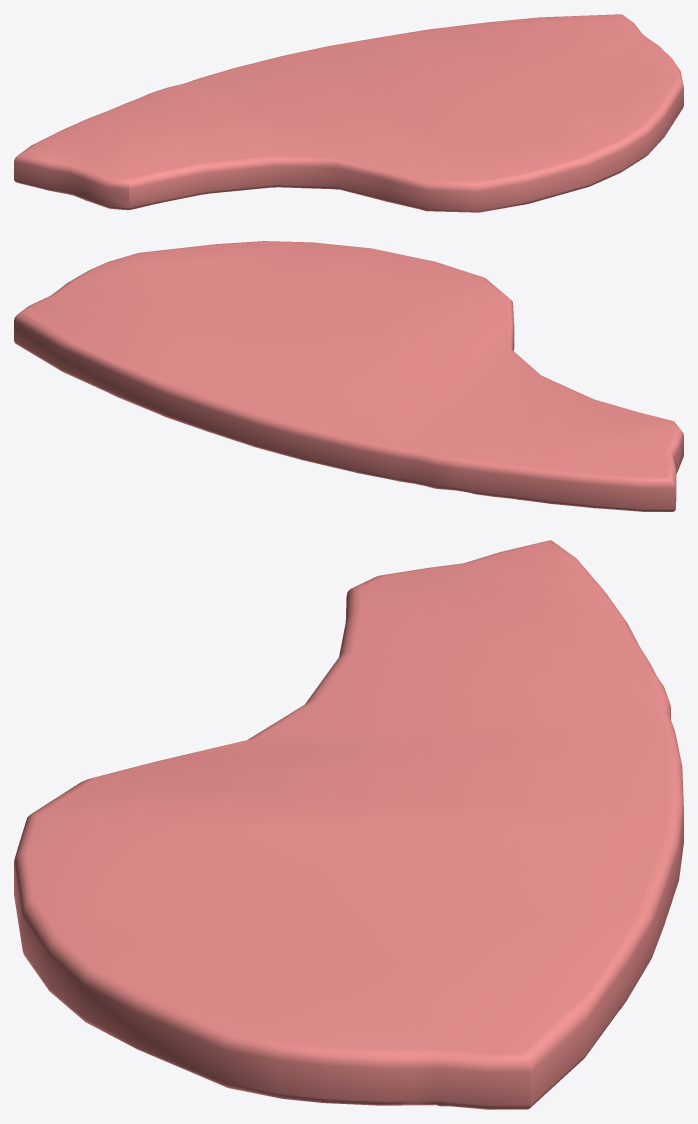
The model's file is Et pişmemiş.fbx.
3 views of the same model, one above another, from view 1: azimuth 30°, elevation 25°; view 2: azimuth 150°, elevation 25°; view 3: azimuth 270°, elevation 25° (orthographic). The views are drawn at different scales.
Visible parts, largest first — view 1: Cube; view 2: Cube; view 3: Cube.
Boxes of the visible parts, <box> form: Cube: <box>14,14,683,212</box>; Cube: <box>14,241,683,511</box>; Cube: <box>14,540,683,1109</box>.
Size of the model in its own units: 65 by 3.08 by 35.
